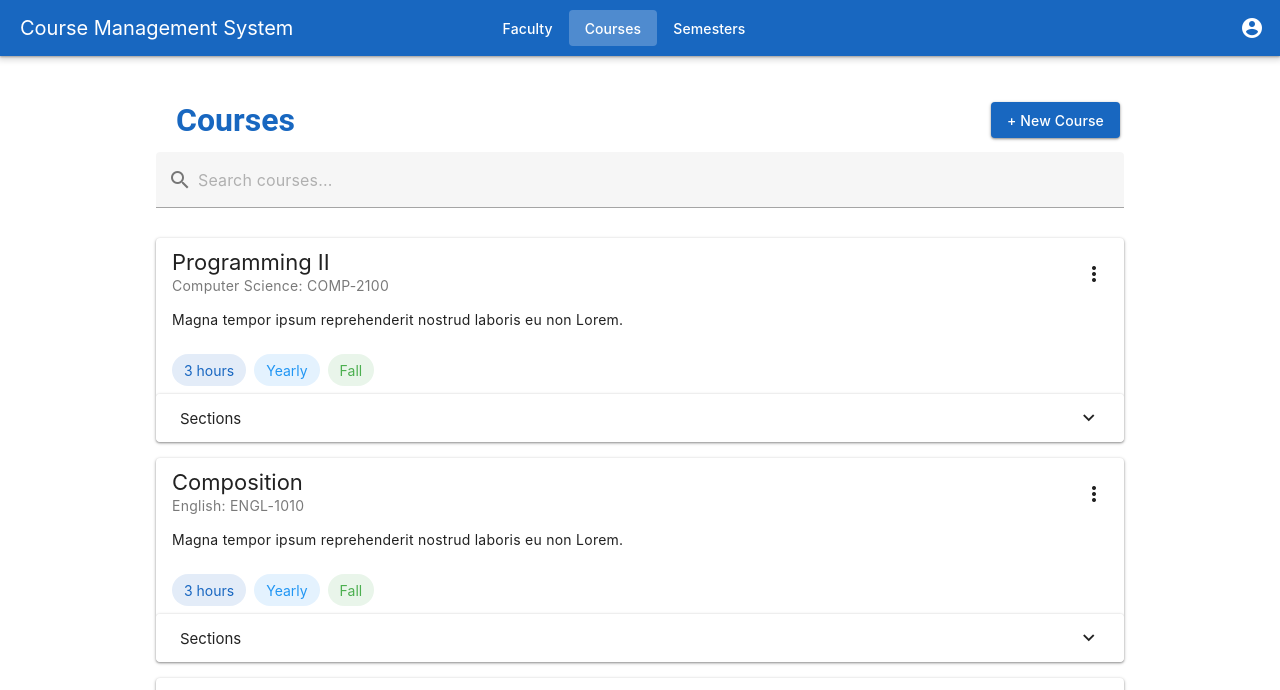
Test: Feature 3 — Course Management UI › US-3.3 — Search/filter/paginate courses › Admin searches for a specific course
In the field with placeholder "Search courses...": (658,180) [192, 152, 1124, 208], type "COMP-"
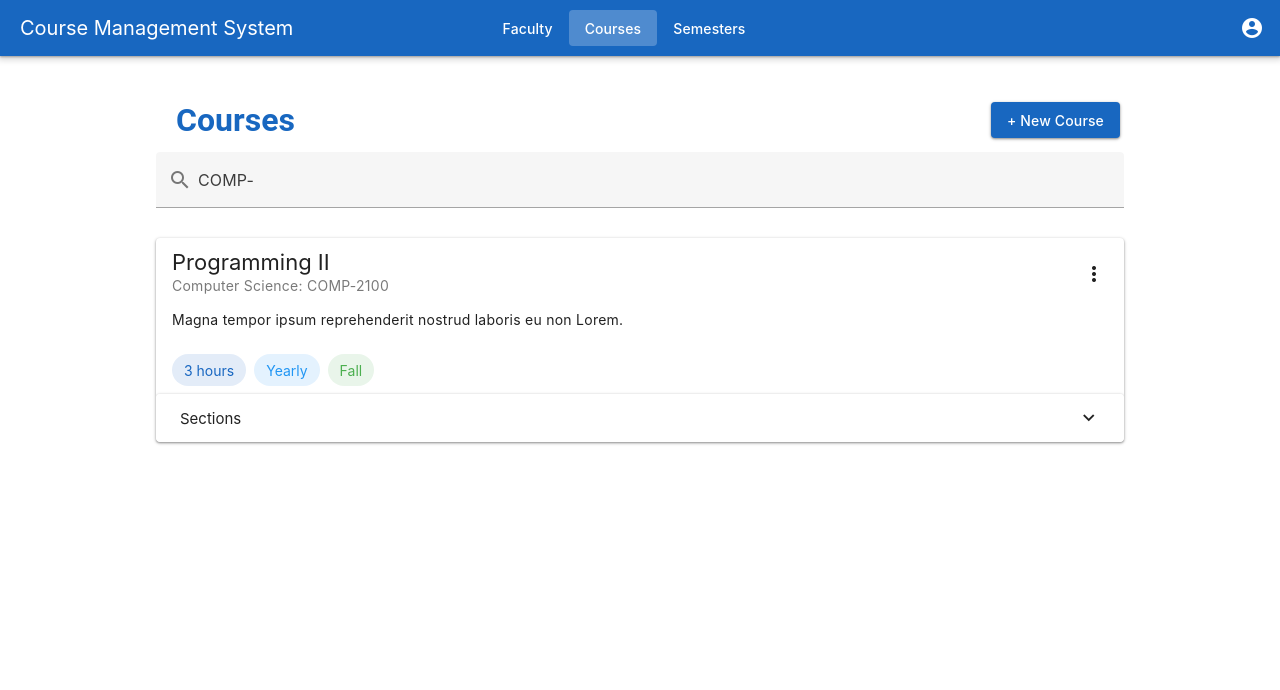
Expected: the text "COMP-2100" is shown, [172, 277, 389, 294]
Result: the text "ENGL-1010" is gone
